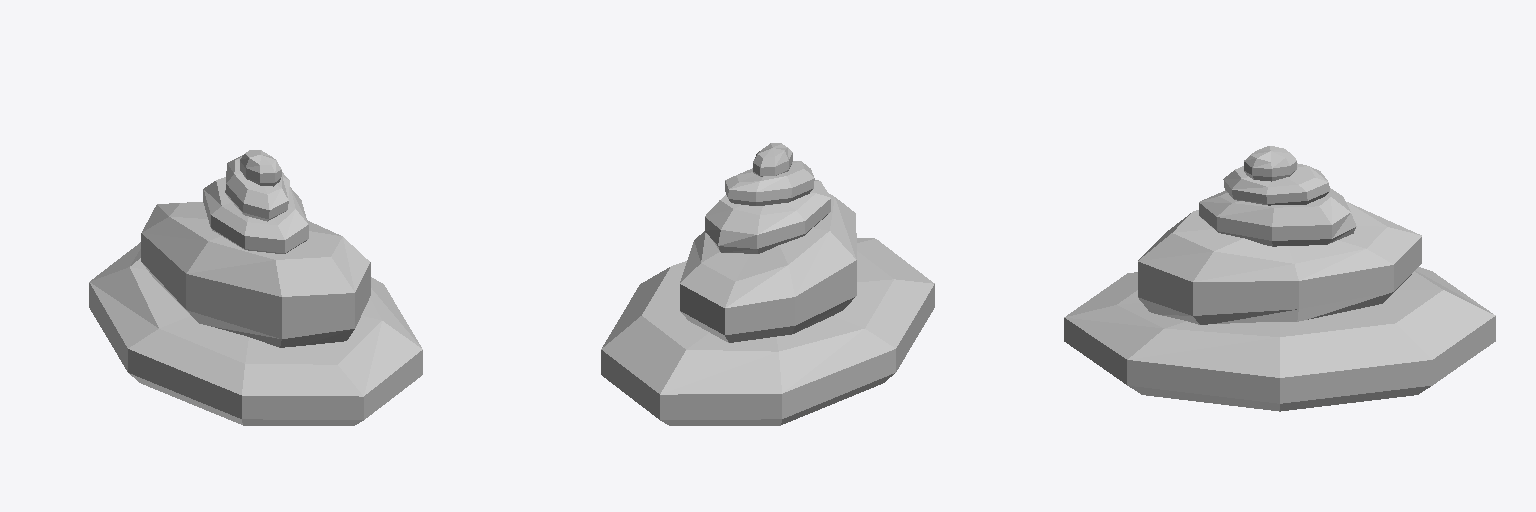
The model's file is Rock1_low.obj.
The picture shows the model from 3 angles: view 1: azimuth 30°, elevation 25°; view 2: azimuth 150°, elevation 25°; view 3: azimuth 270°, elevation 25°; orthographic projection.
Visible parts, largest first — view 1: pCylinder20; view 2: pCylinder20; view 3: pCylinder20.
Part boxes in pixels (x1,y1,x2,y2): pCylinder20: (89, 150, 422, 425); pCylinder20: (601, 143, 934, 425); pCylinder20: (1064, 146, 1495, 411).
Bounding box in the file's own units: 25.75 × 20.14 × 37.58.